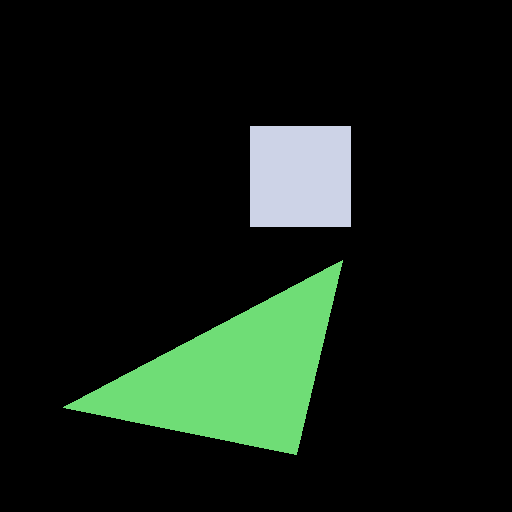square: (250, 126, 350, 226)
triangle: (63, 260, 342, 454)
